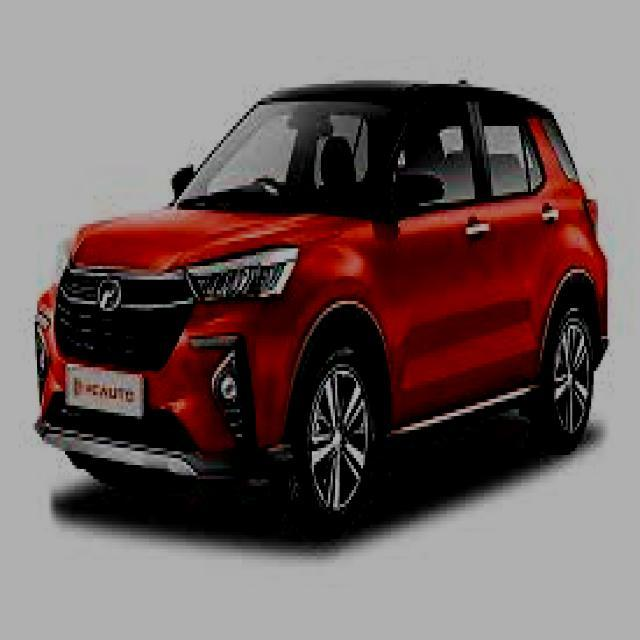PeroduaAtiva: (32, 77, 611, 535)
